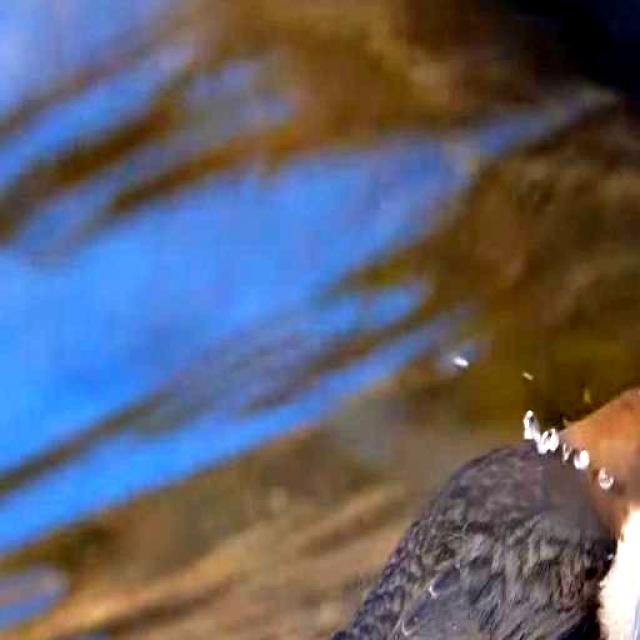airplane: (234, 374, 640, 640)
